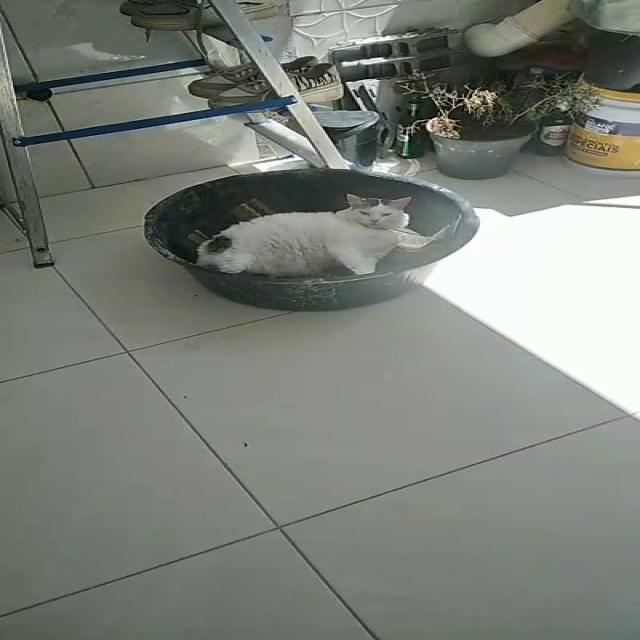Simba: (185, 183, 436, 280)
